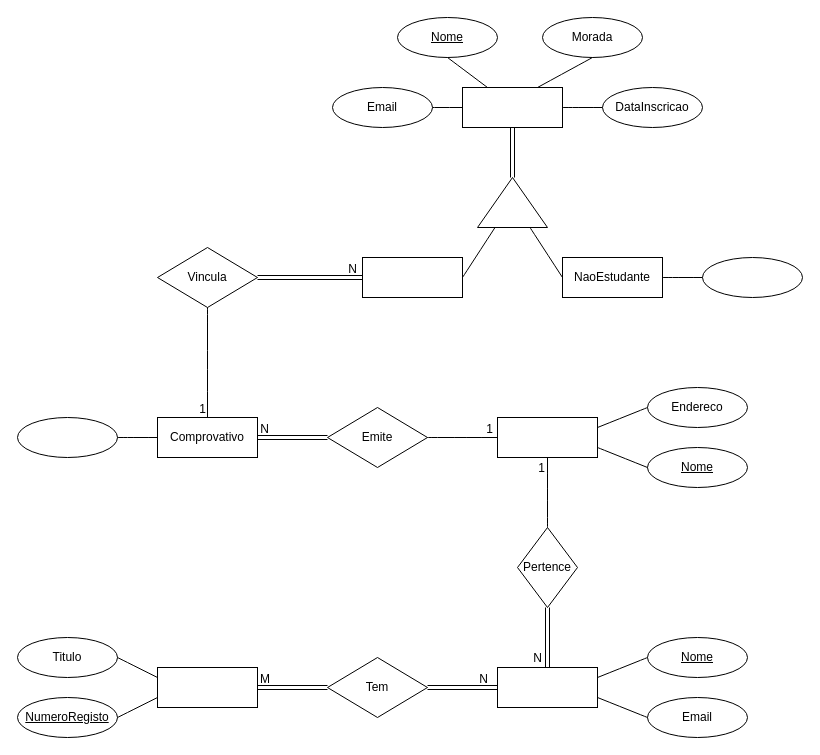
The diagram is 820 pixels wide and 755 high, and some of its shapes have lost their labels. The shapes that lost their labels are listed below. From the top down, each one's centre as x and y in pixels, then its label:
the point at 512,107: Participantes
the point at 512,202: IS-A
the point at 412,277: Estudante
the point at 752,277: Referencia
the point at 67,437: Localizacao
the point at 547,437: Instituicao
the point at 207,687: Artigo
the point at 547,687: Autor
